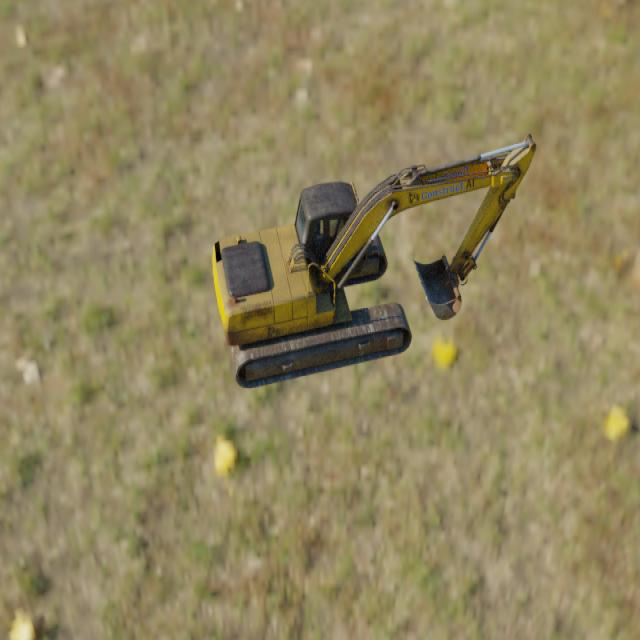excavator: (211, 132, 536, 389)
